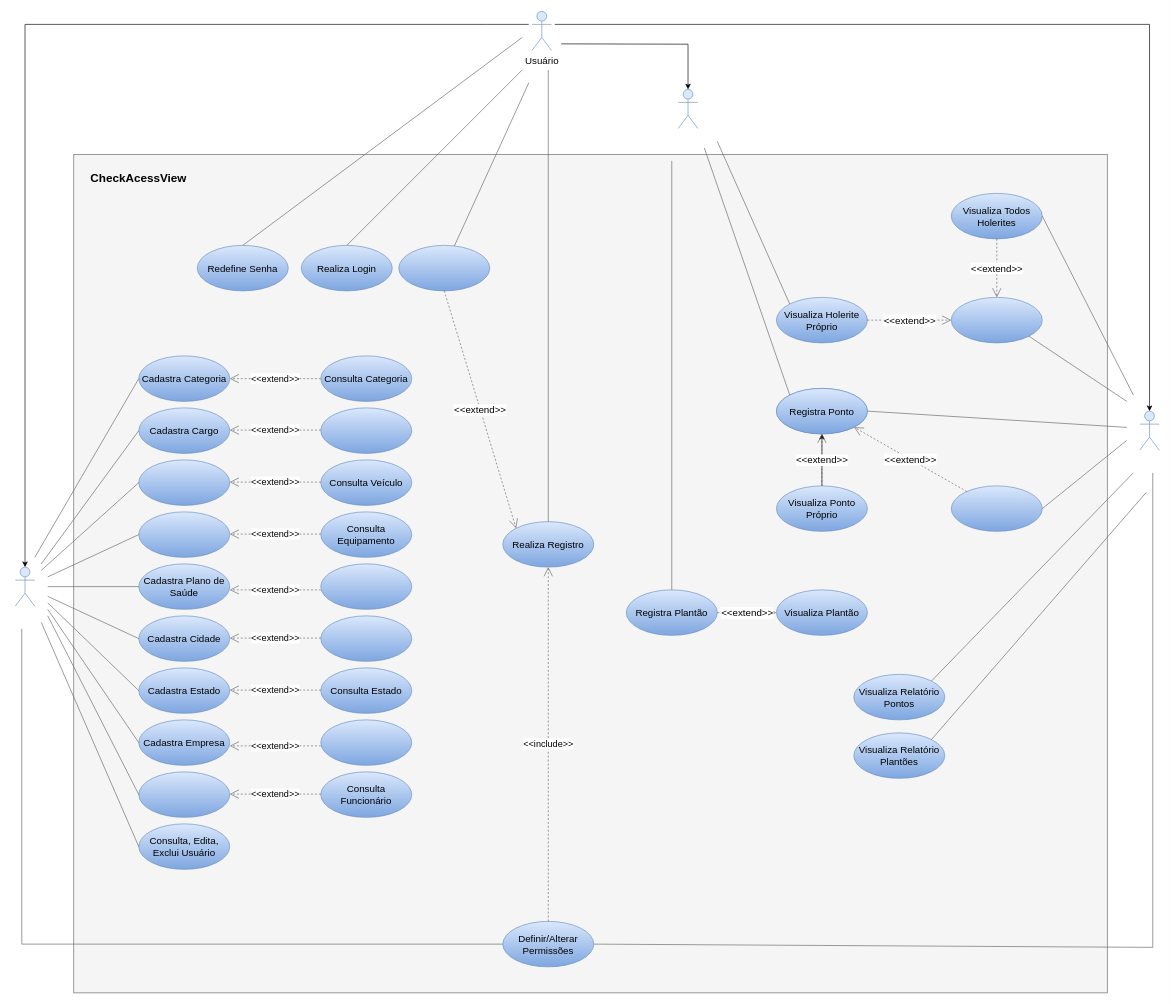
Some shapes in this 1171 by 1004 pixel diagram are drawn without their labels. Each missing label, with the box of its shape:
Admin: (15, 566, 35, 606)
Cadastra Equipamento: (138, 511, 230, 557)
Cadastra Funcionário: (138, 771, 230, 817)
Cadastra Holerite: (951, 297, 1042, 343)
Cadastra Veículo: (138, 459, 230, 505)
Consulta Cargo: (320, 407, 412, 453)
Consulta Cidade: (320, 615, 412, 661)
Consulta Empresa: (320, 719, 412, 765)
Consulta Plano de Saúde: (320, 563, 412, 609)
Funcionário: (678, 89, 698, 128)
RH: (1139, 410, 1159, 450)
Visualiza Todos Pontos: (951, 485, 1042, 531)
Visualiza/Edita Perfil: (398, 245, 490, 291)
